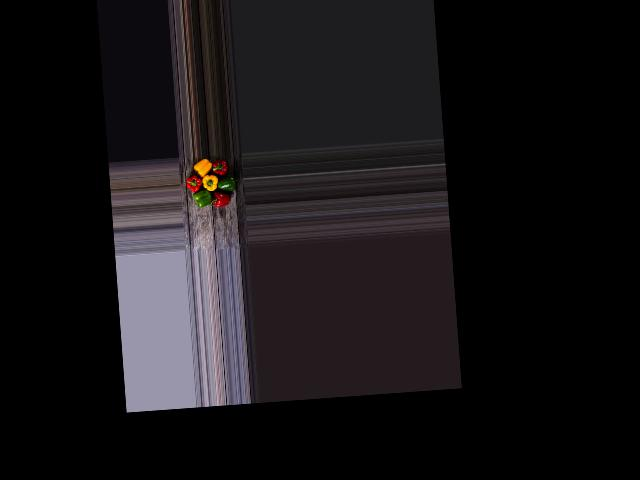bell_pepper: (208, 155, 228, 176)
